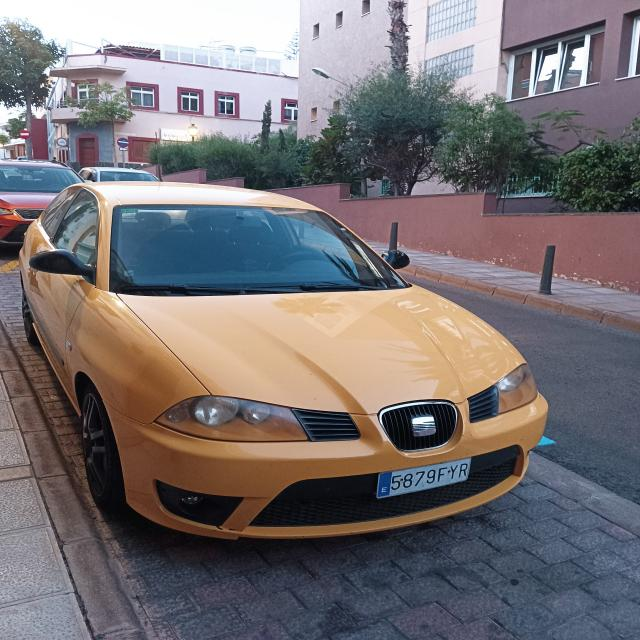football: (376, 457, 470, 499)
